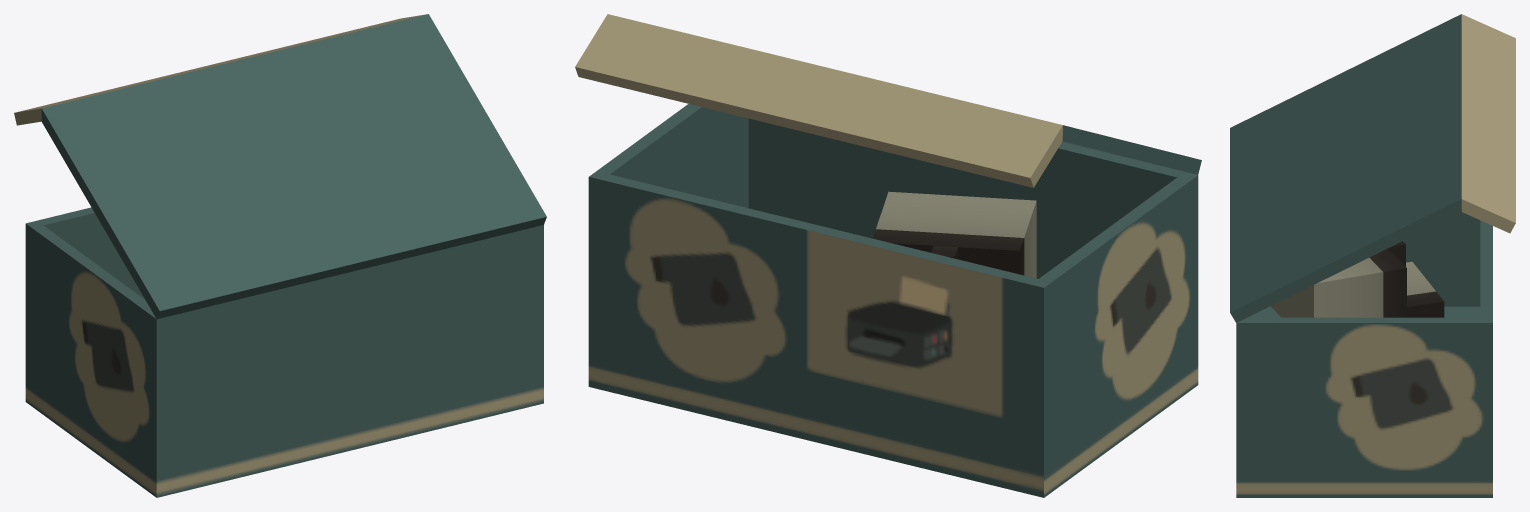
File: SM_CartridgeBox_B.fbx
The picture shows the model from 3 angles, left to right: view 1: azimuth 30°, elevation 25°; view 2: azimuth 150°, elevation 25°; view 3: azimuth 270°, elevation 25°; orthographic projection. The views are drawn at different scales.
Parts seen in each view (by area): view 1: SM_CartridgeBox_B; view 2: SM_CartridgeBox_B; view 3: SM_CartridgeBox_B.
Part boxes in pixels (left/top/right/bottom): SM_CartridgeBox_B: left=14, top=14, right=546, bottom=497; SM_CartridgeBox_B: left=575, top=14, right=1201, bottom=497; SM_CartridgeBox_B: left=1230, top=14, right=1515, bottom=497.
Bounding box in the file's own units: 34.21 × 25.78 × 22.33.
